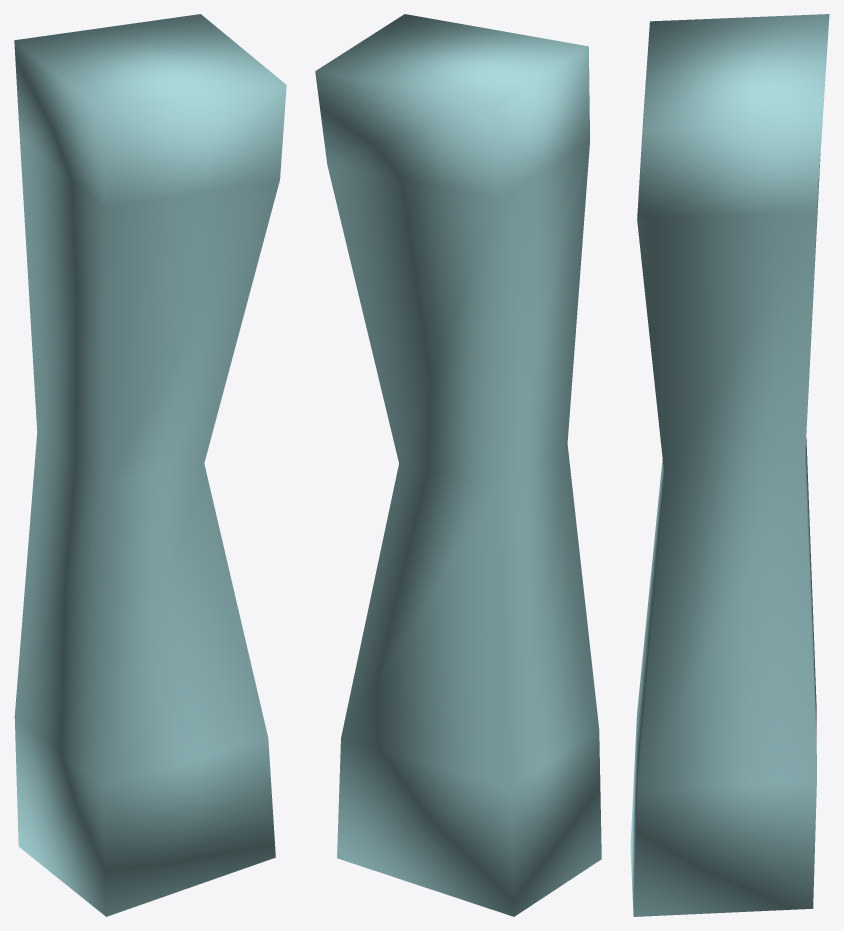
File: Skelly_palm.01.L.fbx
3 renders of one model, left to right at view 1: azimuth 30°, elevation 25°; view 2: azimuth 150°, elevation 25°; view 3: azimuth 270°, elevation 25°, orthographic. The views are drawn at different scales.
Visible parts, largest first — view 1: Skelly_palm.01.L; view 2: Skelly_palm.01.L; view 3: Skelly_palm.01.L.
Part boxes in pixels (x1,y1,x2,y2): Skelly_palm.01.L: [14, 14, 286, 916]; Skelly_palm.01.L: [315, 14, 601, 916]; Skelly_palm.01.L: [630, 14, 829, 916].
Bounding box in the file's own units: 2.17 × 8.85 × 1.91.
